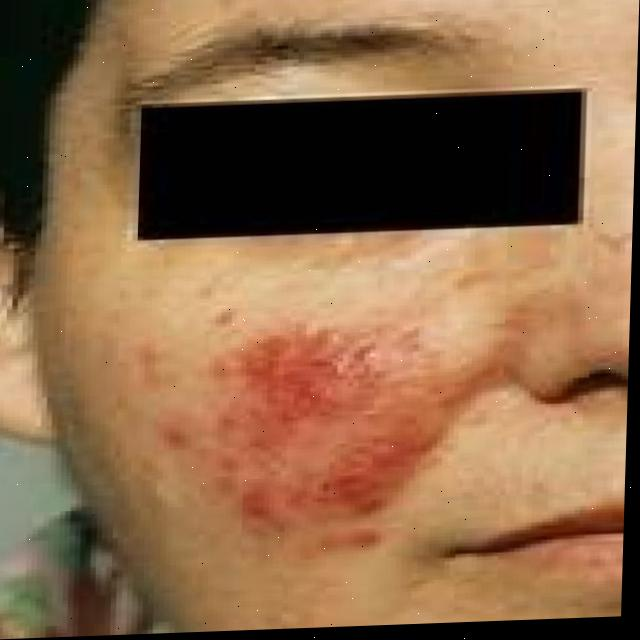Rosacea: (134, 300, 438, 555)
